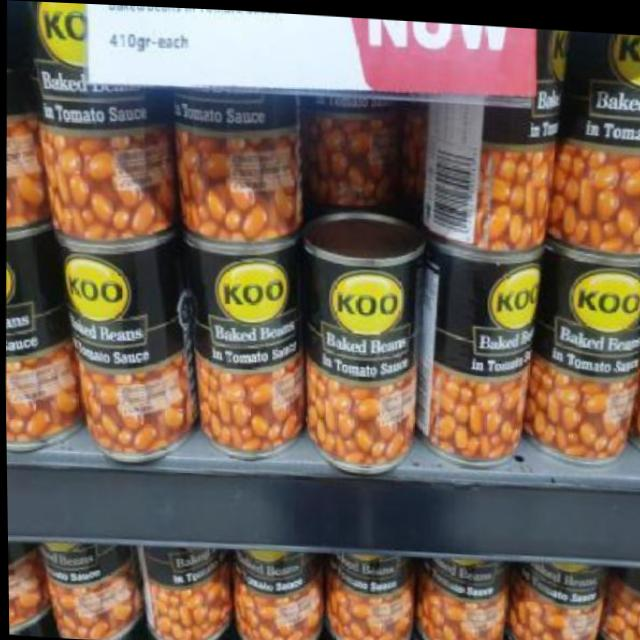Beans: (306, 234, 417, 381), (418, 243, 530, 378), (66, 249, 174, 368), (535, 243, 640, 365), (190, 255, 306, 363), (565, 24, 640, 146)
